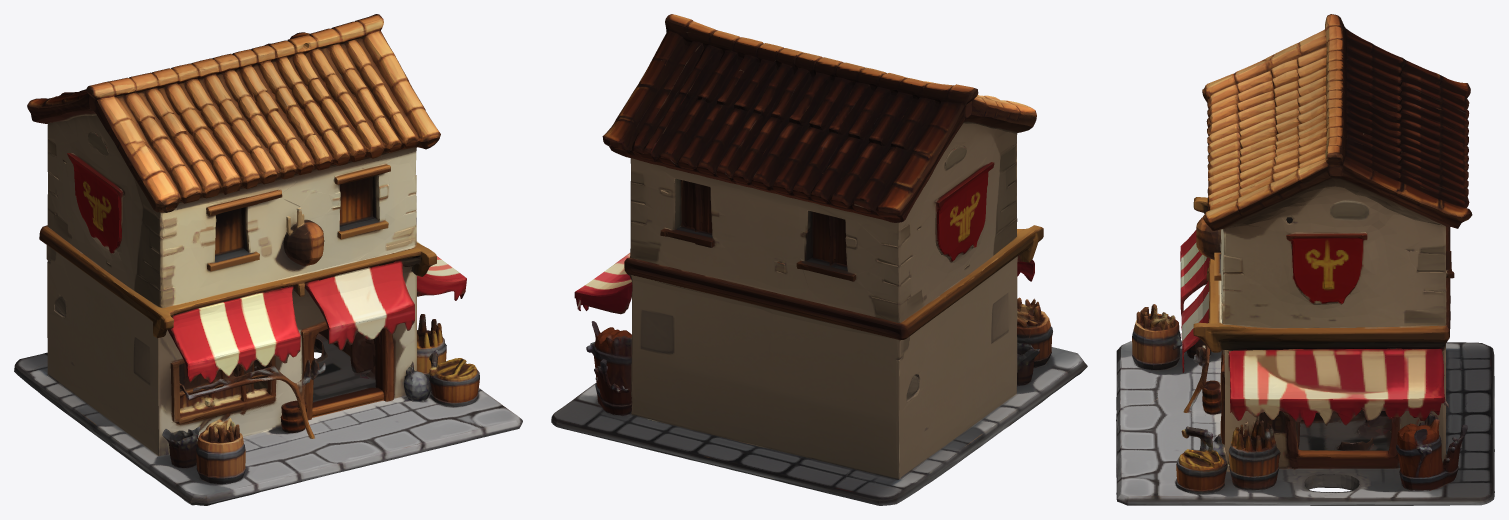
The model's file is merchant_house.glb.
3 renders of one model, left to right at view 1: azimuth 30°, elevation 25°; view 2: azimuth 150°, elevation 25°; view 3: azimuth 270°, elevation 25°, orthographic. The views are drawn at different scales.
Visible parts, largest first — view 1: world; view 2: world; view 3: world.
Part boxes in pixels (<box>): world: <box>14,14,522,505</box>; world: <box>551,14,1087,505</box>; world: <box>1116,14,1494,505</box>.
Bounding box in the file's own units: 0.9897 × 0.9837 × 0.9899.
Materials: 1 (1 with a texture image).
